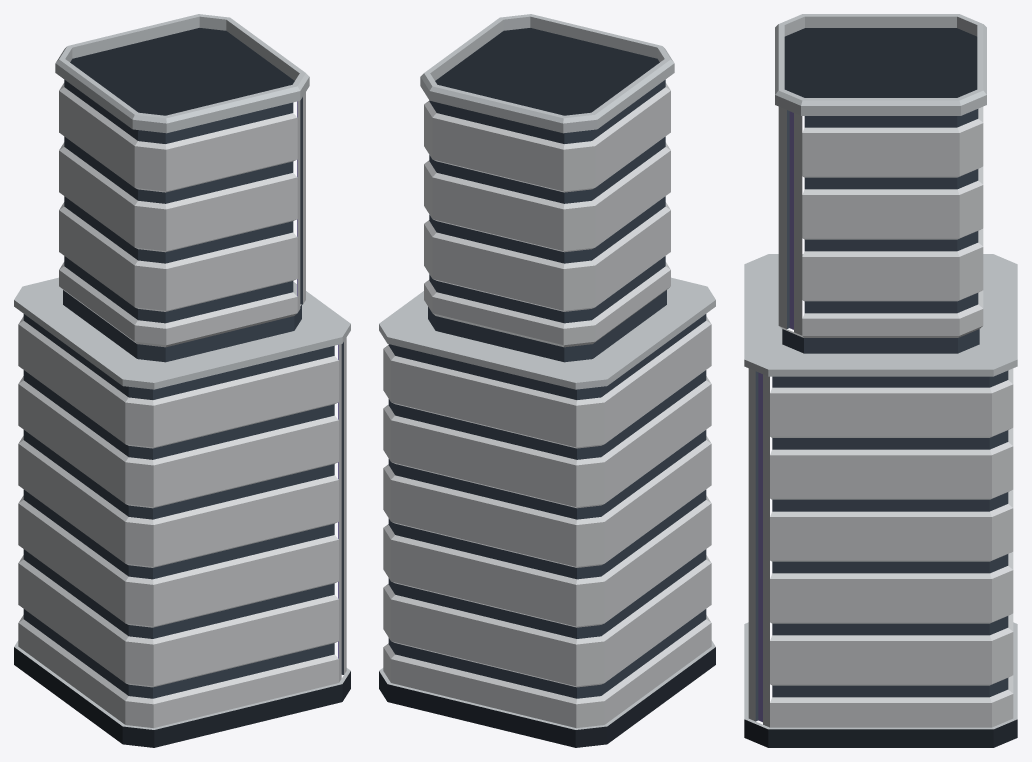
The model's file is monolith-office-tower-422420.glb.
3 renders of one model, left to right at view 1: azimuth 30°, elevation 25°; view 2: azimuth 150°, elevation 25°; view 3: azimuth 270°, elevation 25°, orthographic. The views are drawn at different scales.
Visible parts, largest first — view 1: tower-shell, glazing; view 2: tower-shell, glazing; view 3: tower-shell, glazing.
Boxes of the visible parts, x1=… form: tower-shell: x1=14, y1=14, x2=350, y2=747; glazing: x1=23, y1=79, x2=334, y2=698; tower-shell: x1=379, y1=14, x2=715, y2=747; glazing: x1=388, y1=79, x2=706, y2=698; tower-shell: x1=744, y1=14, x2=1017, y2=747; glazing: x1=772, y1=109, x2=1008, y2=697.
Bounding box in the file's own units: 16 × 40.9 × 16.
